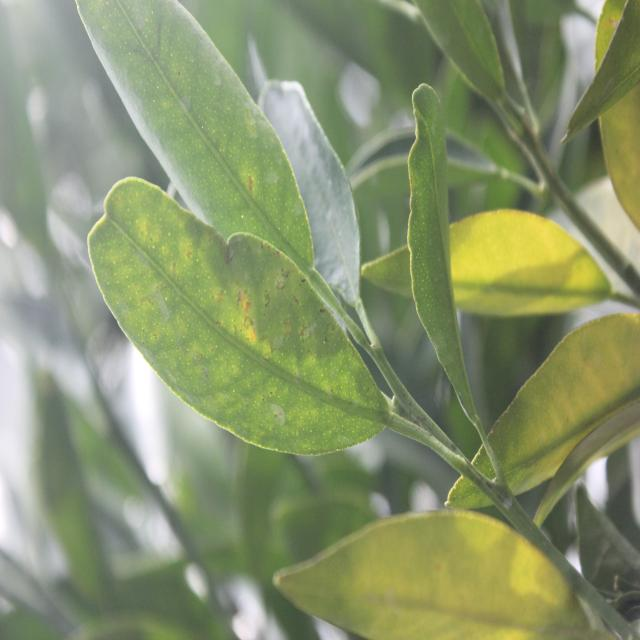canker: (157, 269, 338, 430)
